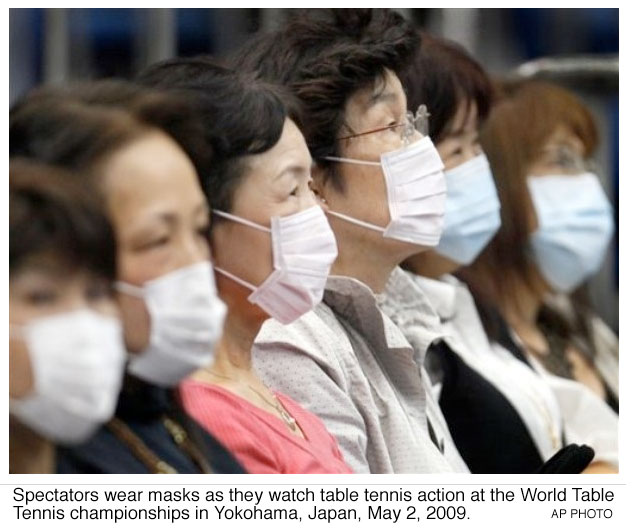mask: (246, 216, 337, 327), (376, 137, 444, 253)
